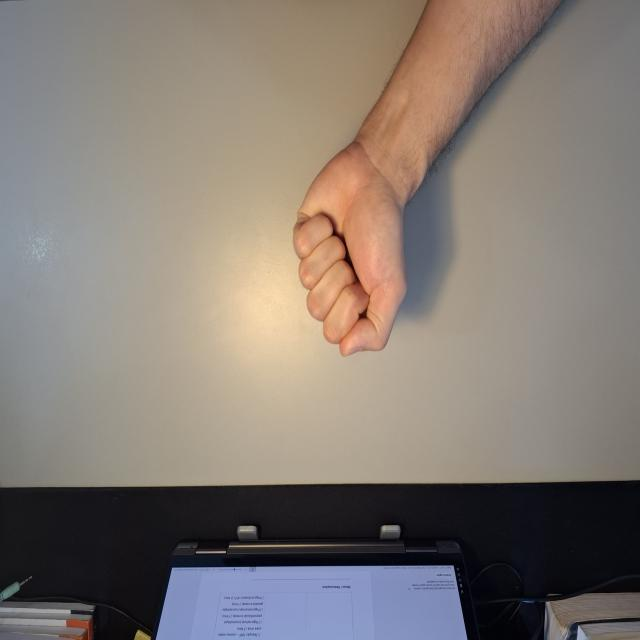glove_off: (291, 128, 412, 362)
